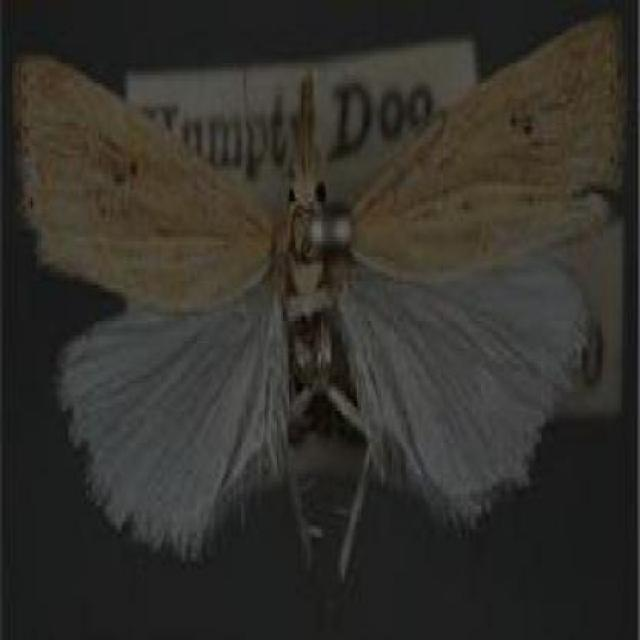stem-borer: (12, 10, 629, 591)
